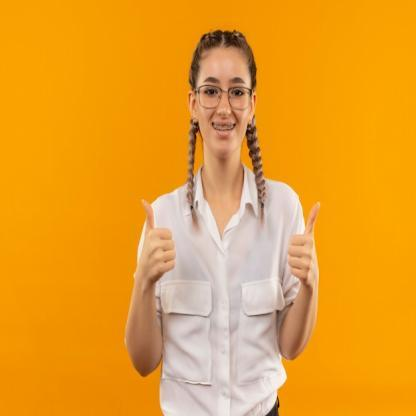thumb_up: (134, 196, 178, 283), (287, 198, 325, 292)
